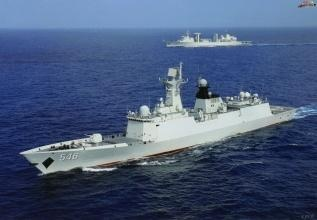warship: (20, 59, 298, 176), (166, 28, 255, 50)
